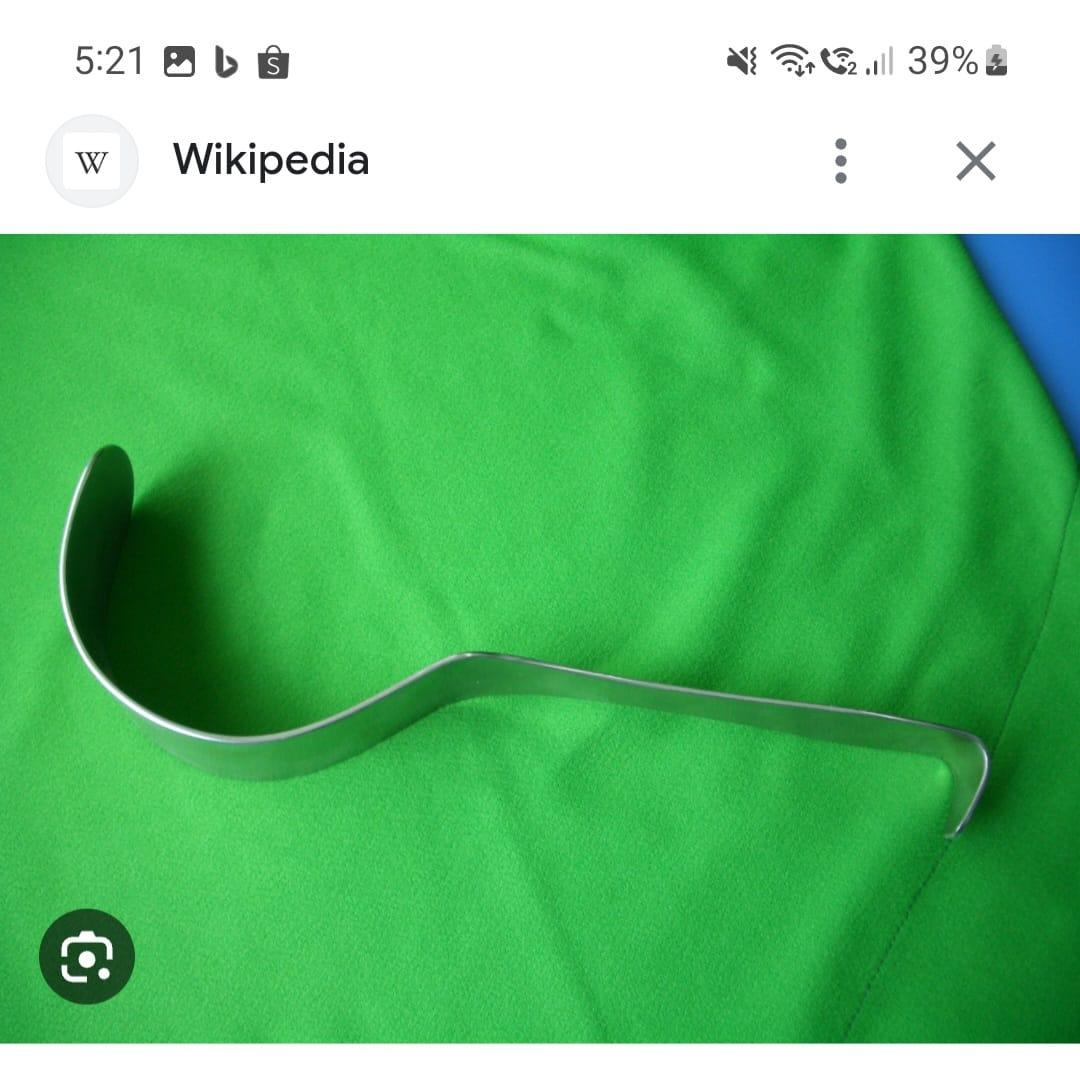Deaver Retractor: (40, 440, 1012, 853)
